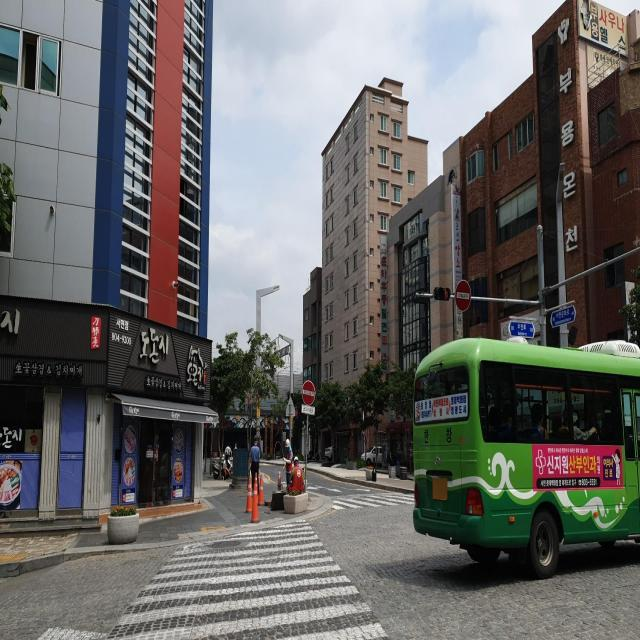횡단보도: (109, 515, 391, 639), (330, 487, 414, 514)
